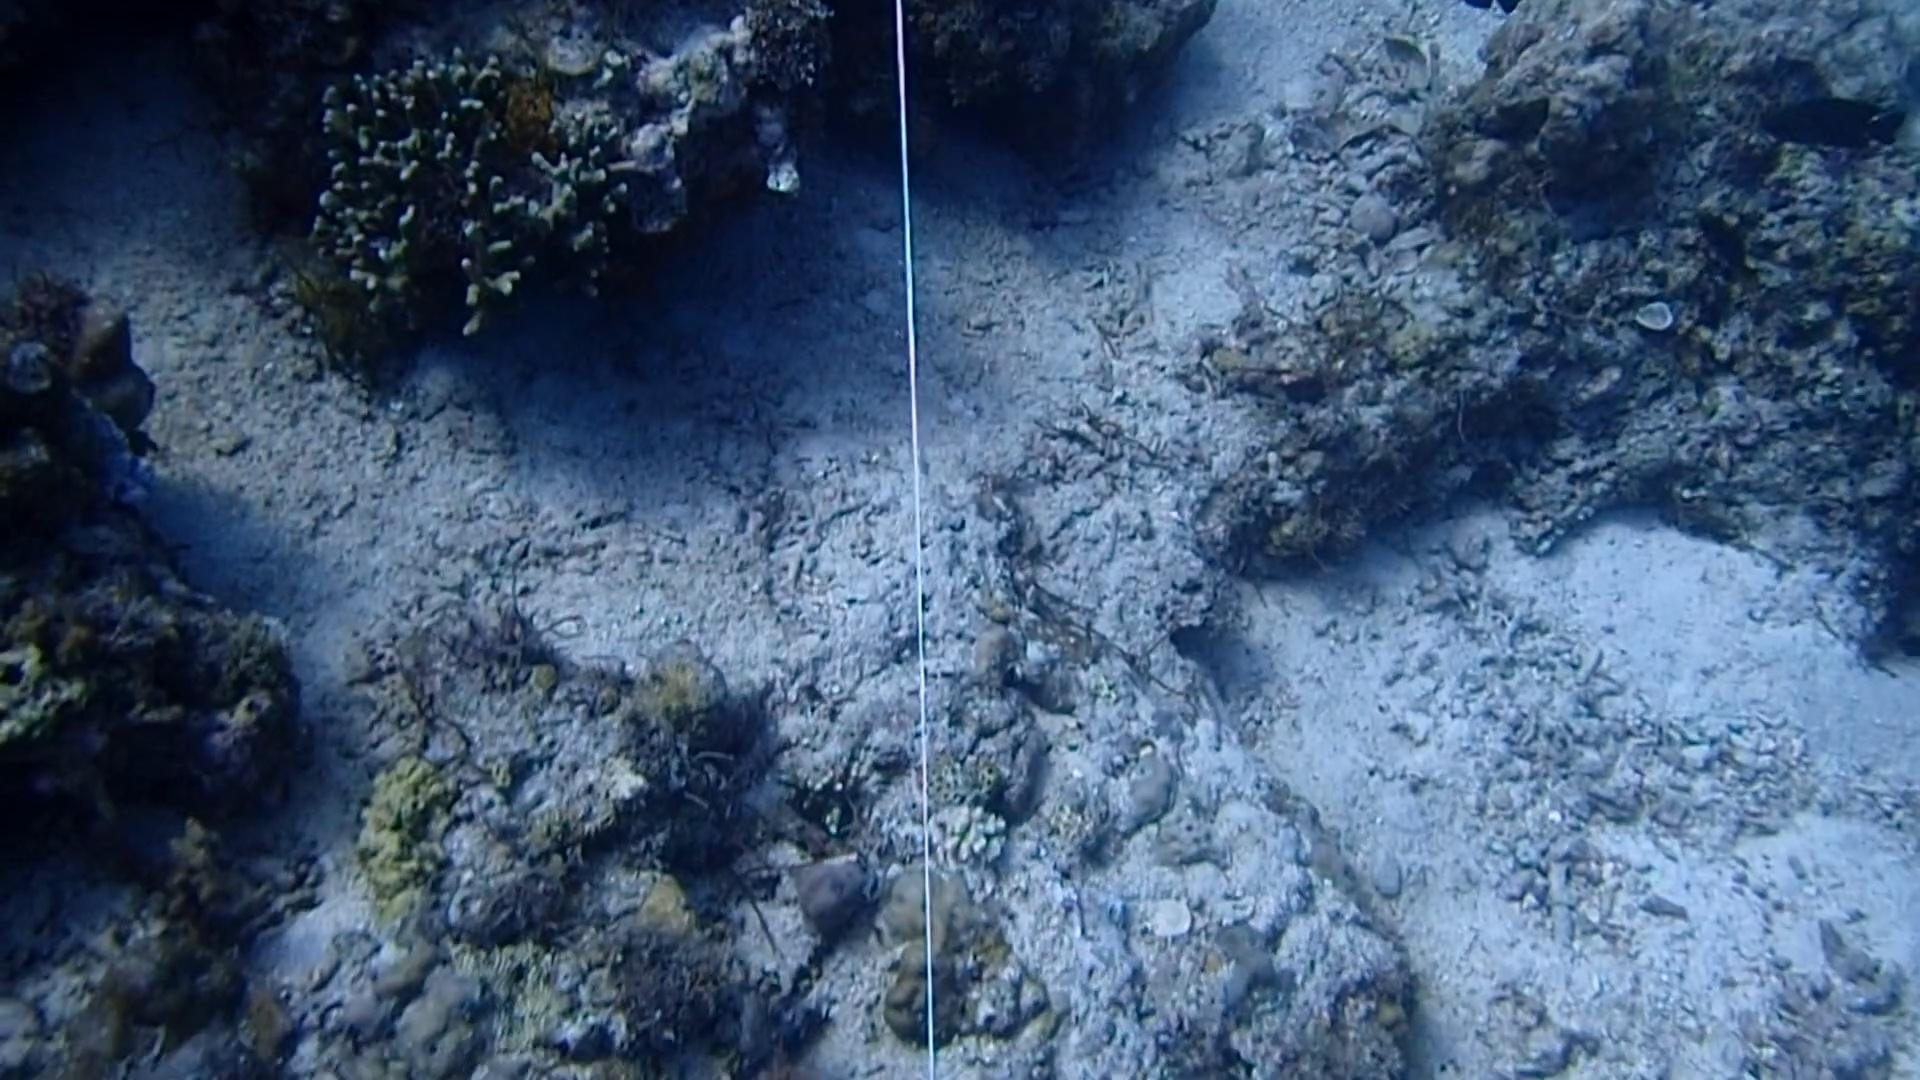Dark Fish: (1762, 82, 1903, 160), (1688, 199, 1758, 285)
